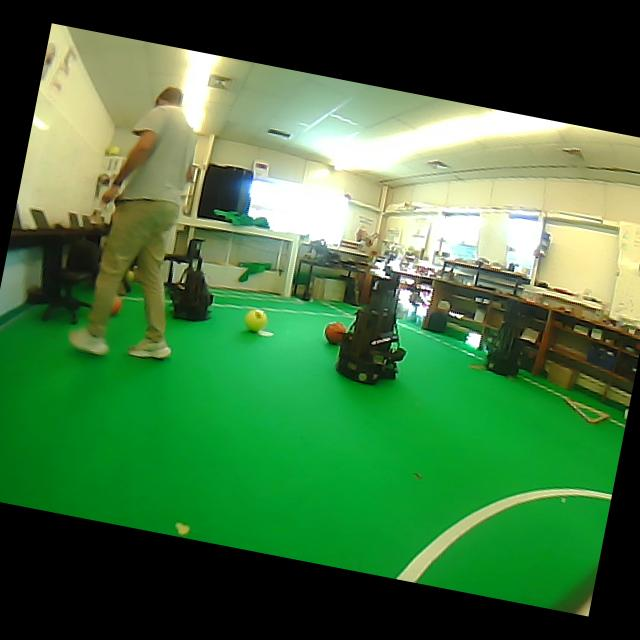ball: (324, 321, 346, 345), (245, 309, 267, 332), (111, 297, 123, 315), (106, 146, 121, 156), (125, 270, 135, 282)
goal: (282, 235, 300, 297)
robot: (335, 277, 405, 384), (167, 238, 214, 321), (486, 300, 521, 376)
